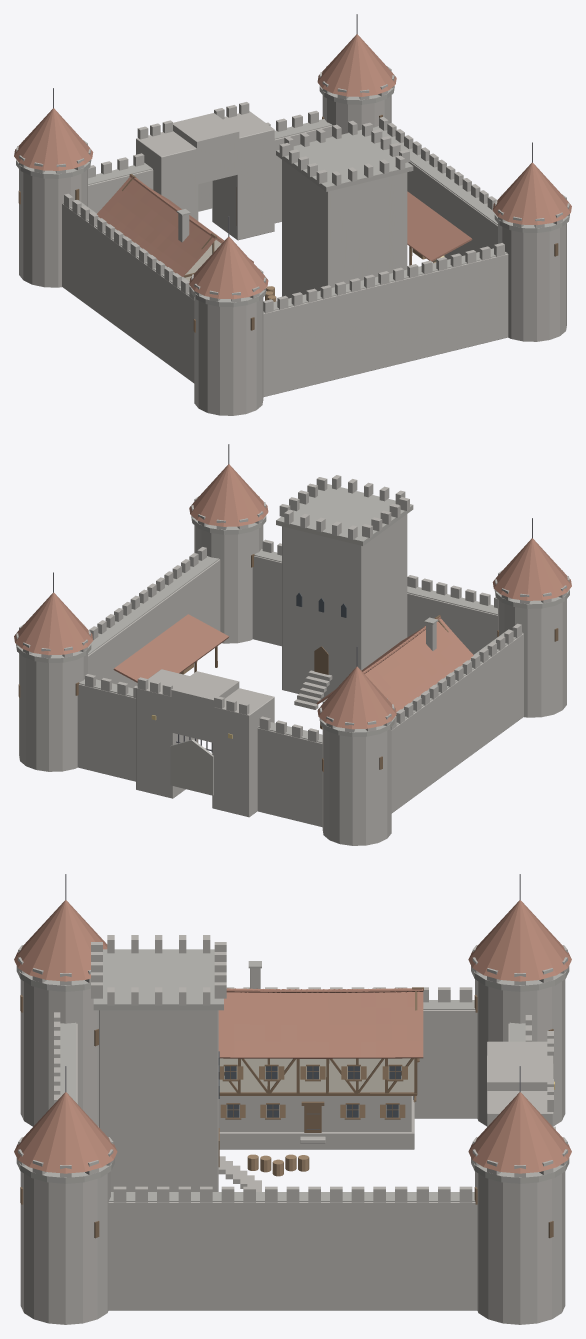
Rendered from castle.glb.
The picture shows the model from 3 angles, top to bottom: view 1: azimuth 30°, elevation 25°; view 2: azimuth 150°, elevation 25°; view 3: azimuth 270°, elevation 25°; orthographic projection. The views are drawn at different scales.
Parts seen in each view (by area): view 1: castle; view 2: castle; view 3: castle.
Boxes of the visible parts, <box> form: castle: <box>14,14,571,415</box>; castle: <box>14,444,571,845</box>; castle: <box>14,874,571,1324</box>.
Bounding box in the file's own units: 42 × 20.45 × 42.
